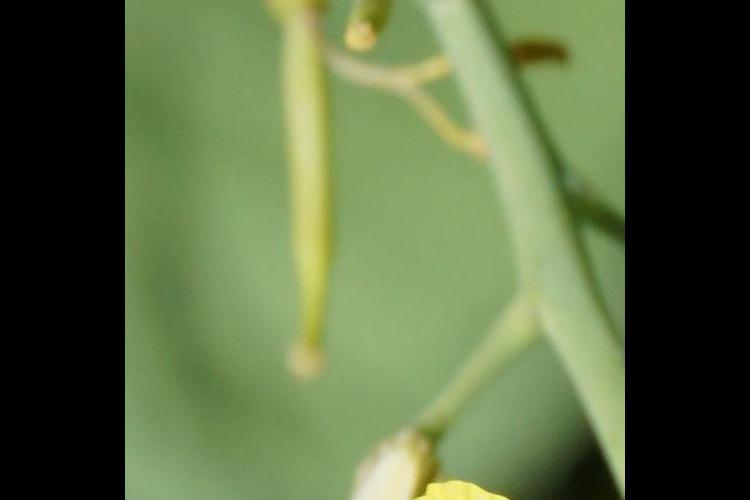pod: (255, 1, 353, 384)
